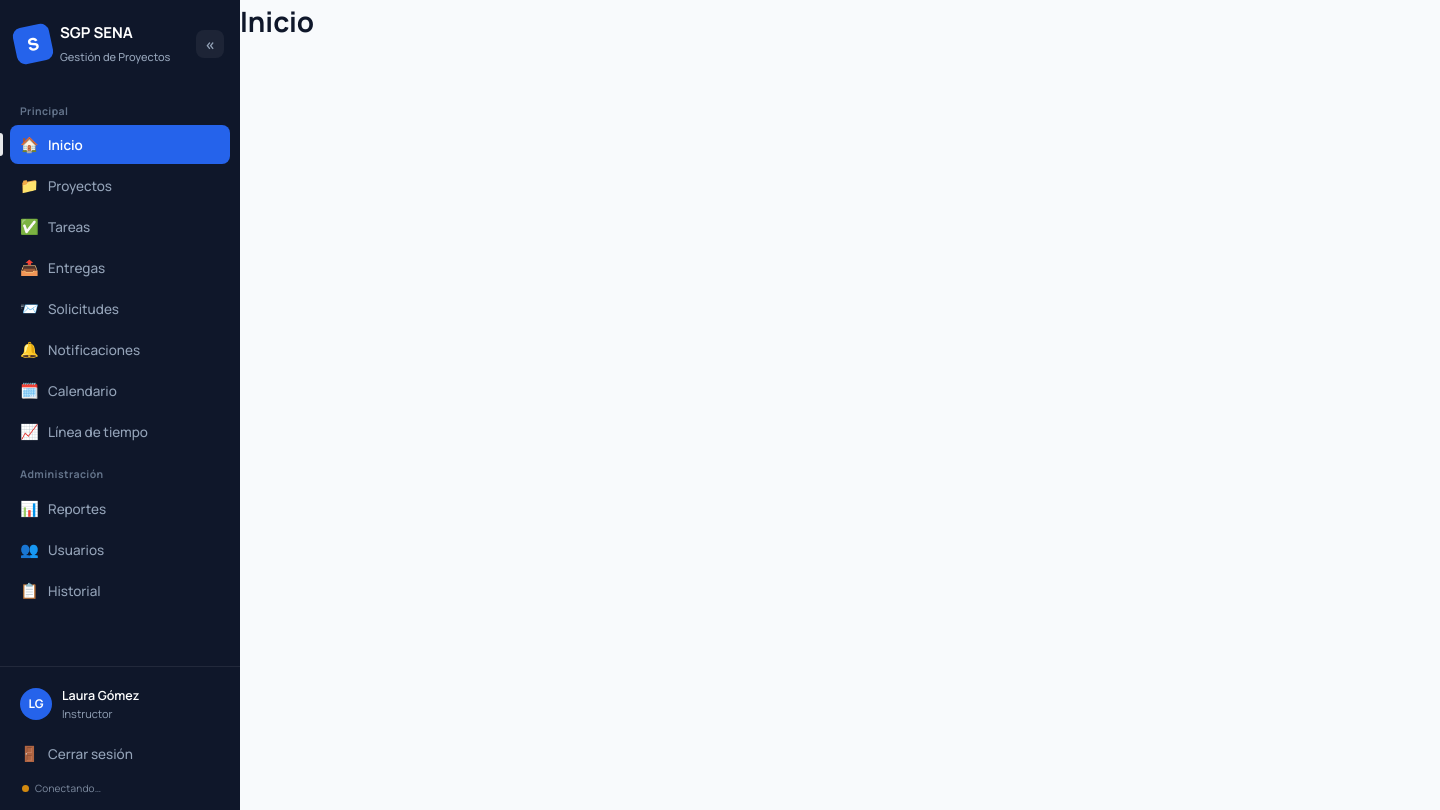
Test: AppLayout › should ask for confirmation before closing the session
What coordinates should you click on to do the following:
click the button "🚪 Cerrar sesión"
I would click on:
 (120, 754)
Its box is [10, 734, 230, 773].
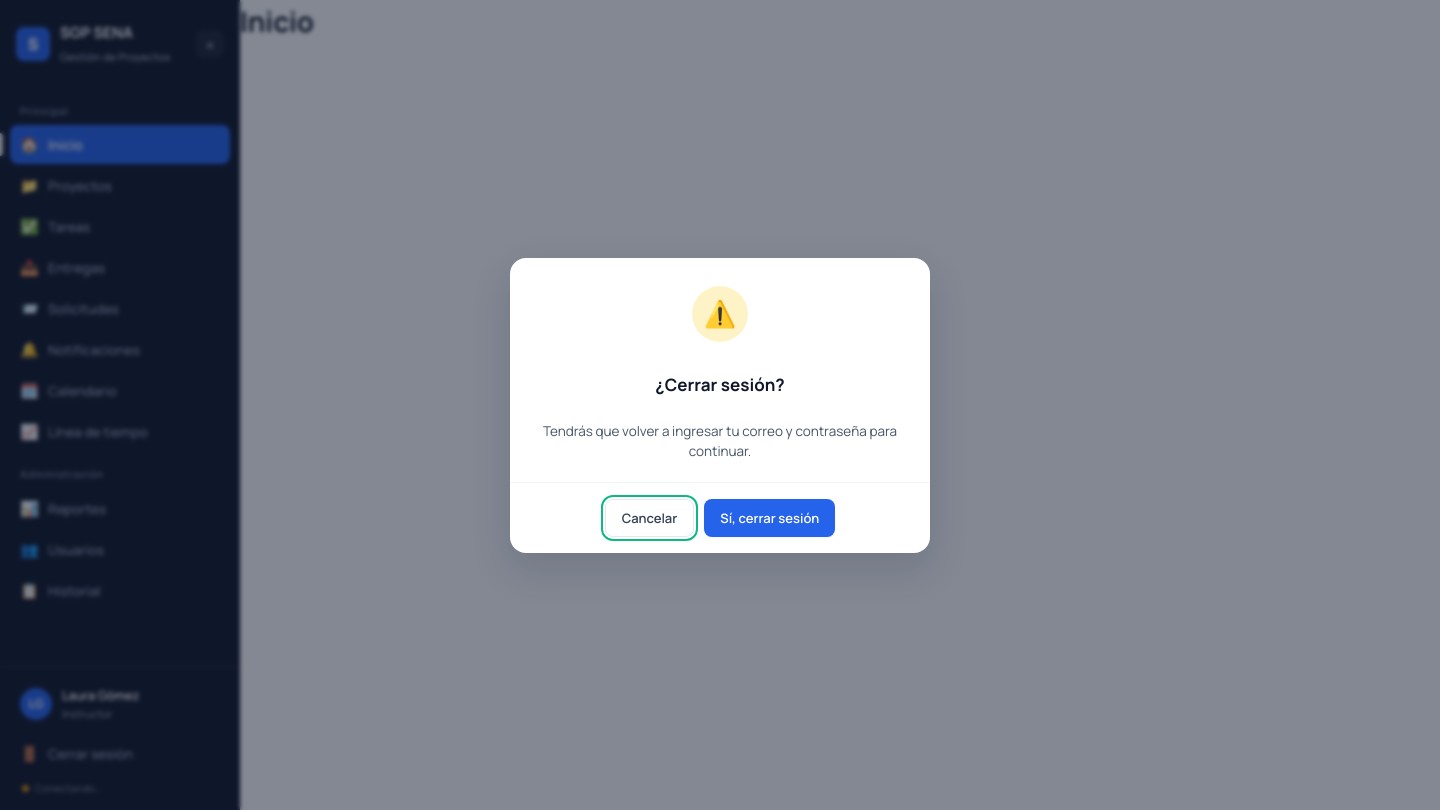
expect the heading "¿Cerrar sesión?" is shown: met, box [655, 372, 785, 396]
